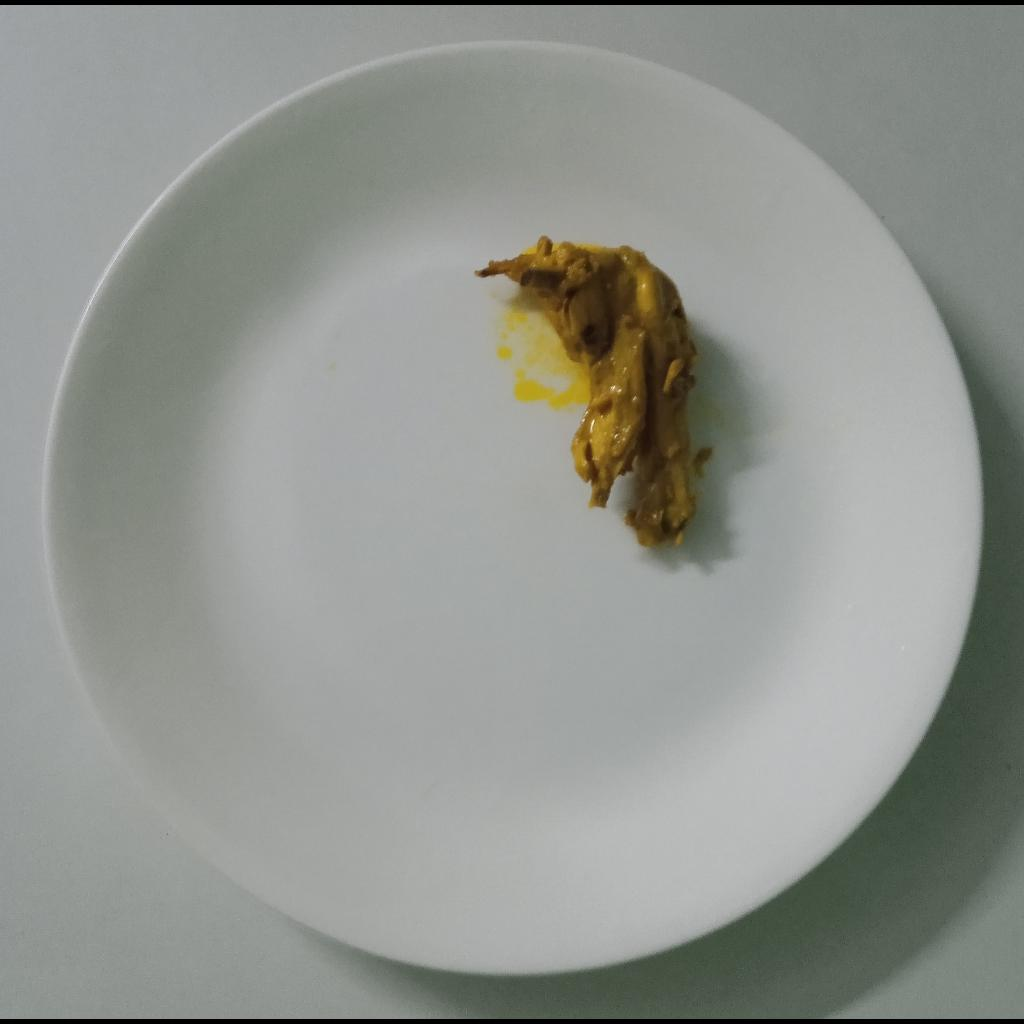chicken: (478, 227, 716, 547)
